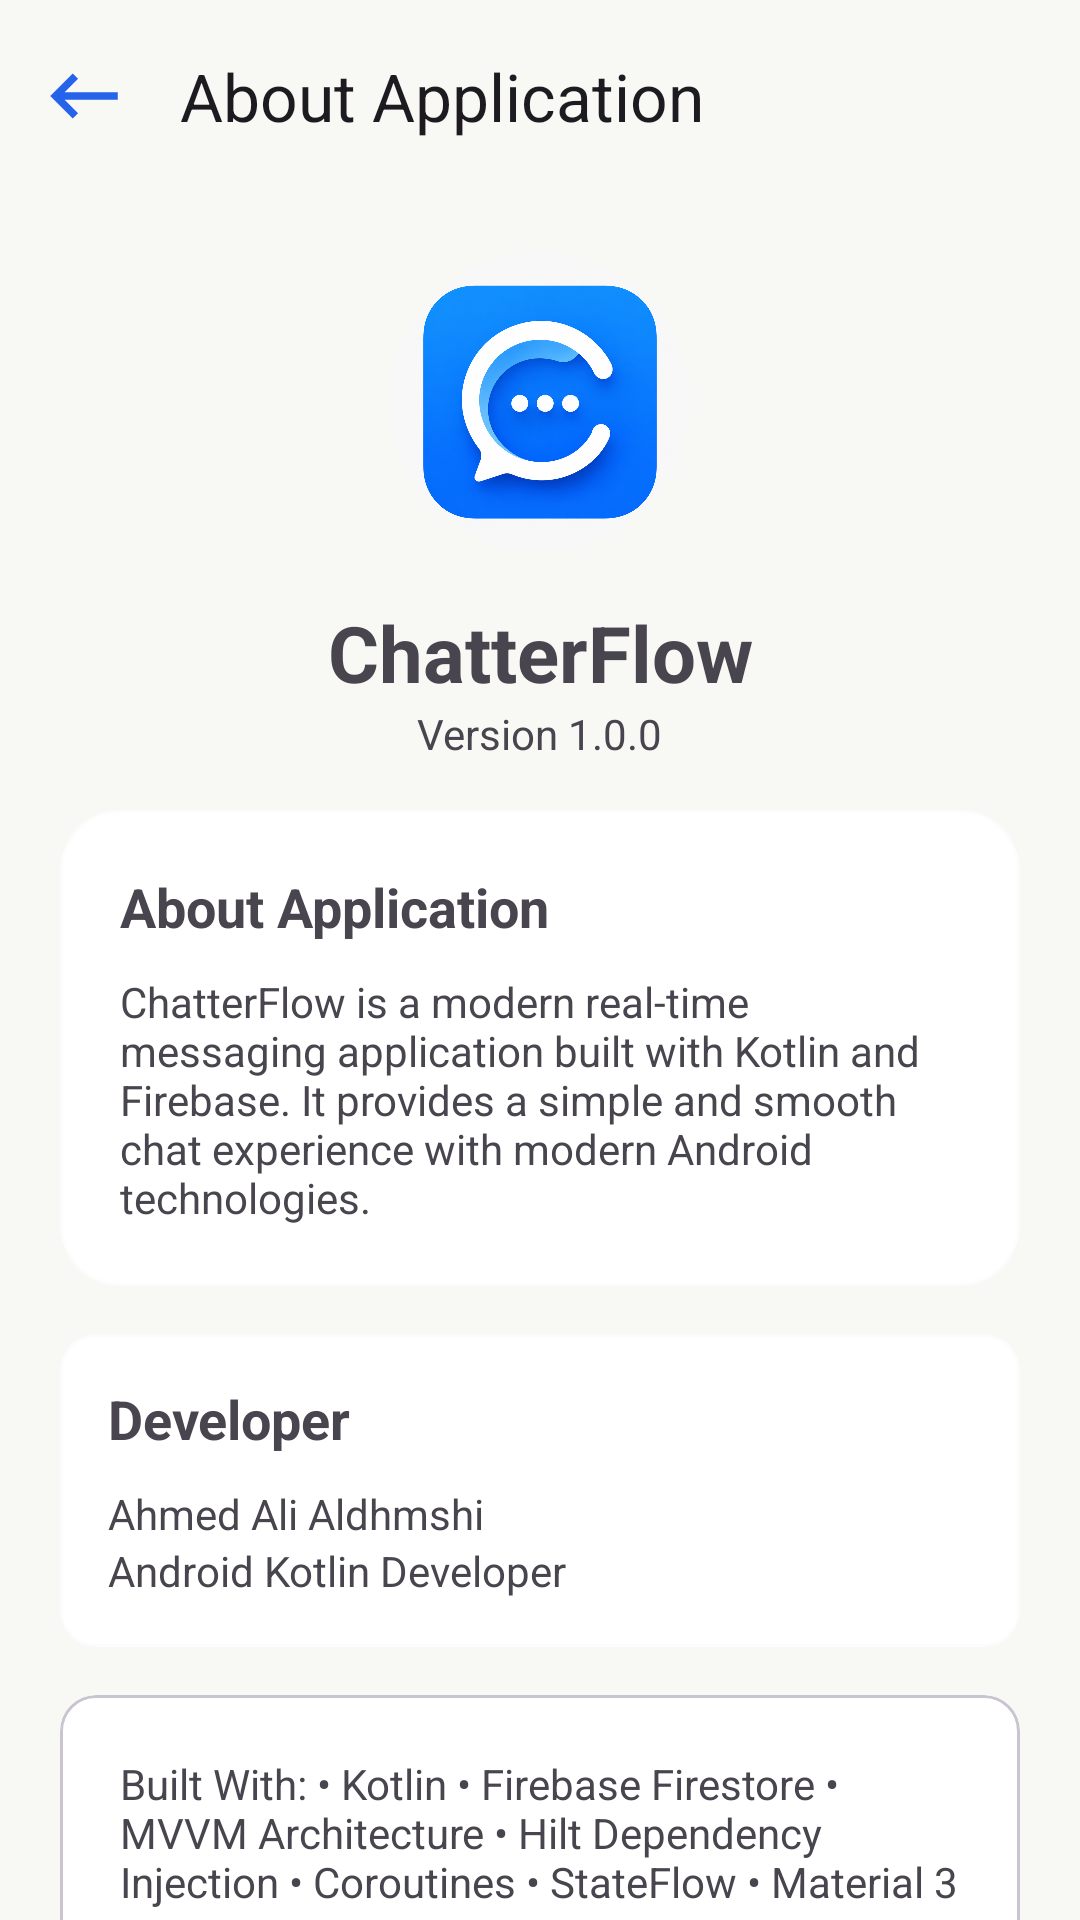

Named icons in this screenshot (1080x1920) and their centers, (x,y):
chatting: (540,402)
